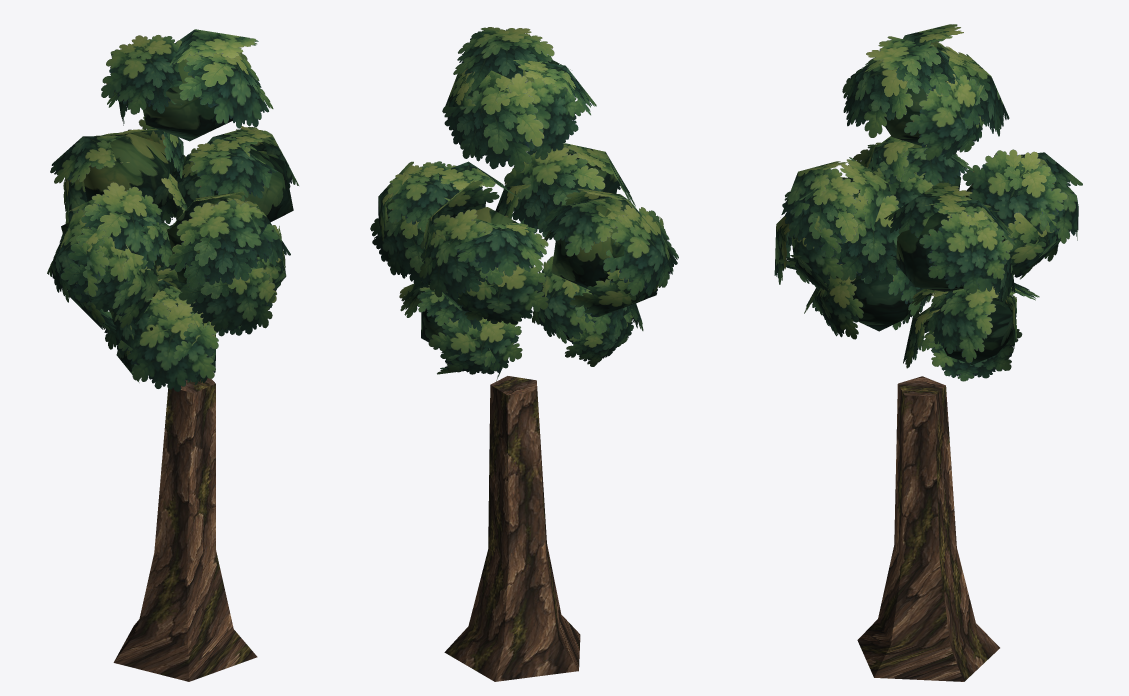
File: tree_hill_oak_lod1.glb
3 views of the same model, side by side, from view 1: azimuth 30°, elevation 25°; view 2: azimuth 150°, elevation 25°; view 3: azimuth 270°, elevation 25° (orthographic). The views are drawn at different scales.
Parts seen in each view (by area): view 1: tree_hill_oak_lod1; view 2: tree_hill_oak_lod1; view 3: tree_hill_oak_lod1.
Part boxes in pixels (left/top/right/bottom): tree_hill_oak_lod1: left=47, top=29, right=298, bottom=681; tree_hill_oak_lod1: left=370, top=27, right=678, bottom=681; tree_hill_oak_lod1: left=774, top=24, right=1082, bottom=681.
Bounding box in the file's own units: 3.25 × 6.04 × 3.37.
2 materials, 2 textured.
